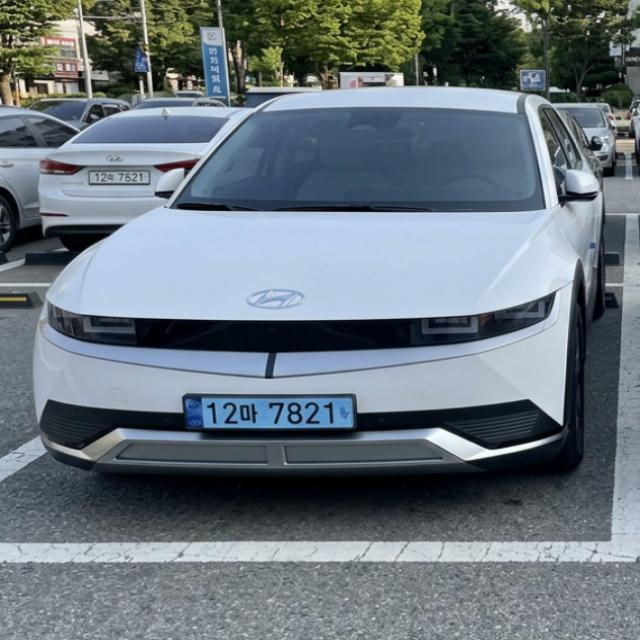car: (167, 382, 385, 445)
carev: (335, 395, 358, 434), (183, 395, 204, 434)
